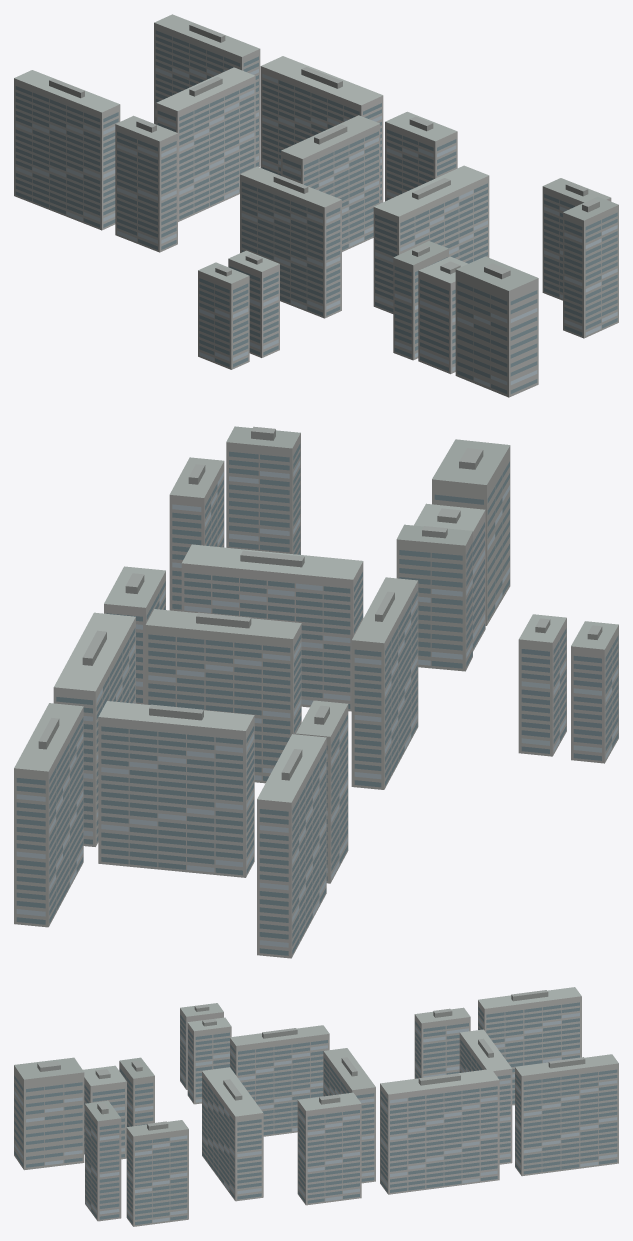
The model's file is apt-a15081002.glb.
3 views of the same model, one above another, from view 1: azimuth 30°, elevation 25°; view 2: azimuth 150°, elevation 25°; view 3: azimuth 270°, elevation 25° (orthographic). The views are drawn at different scales.
Parts seen in each view (by area): view 1: apt-a15081002; view 2: apt-a15081002; view 3: apt-a15081002.
Part boxes in pixels (bbox=[...]): apt-a15081002: bbox=[14, 14, 618, 397]; apt-a15081002: bbox=[14, 426, 618, 958]; apt-a15081002: bbox=[14, 987, 618, 1226].
Bounding box in the file's own units: 160 × 52 × 272.
